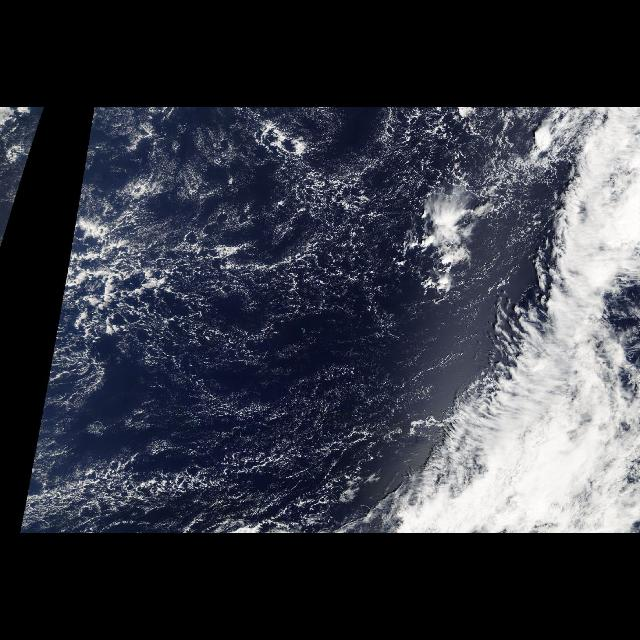Gravel: (108, 112, 406, 426)
